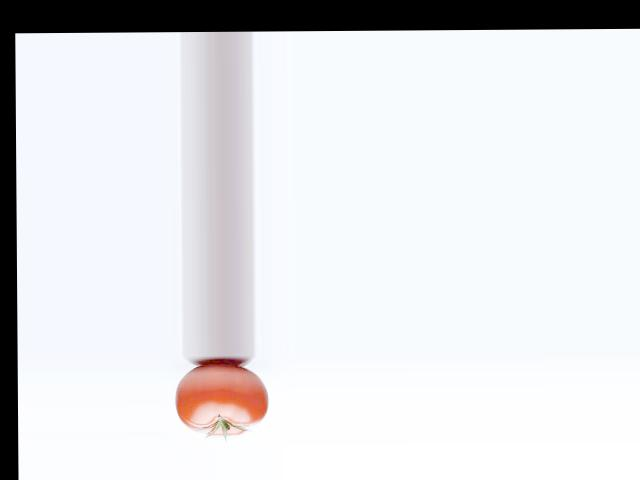tomato: (175, 364, 268, 436)
